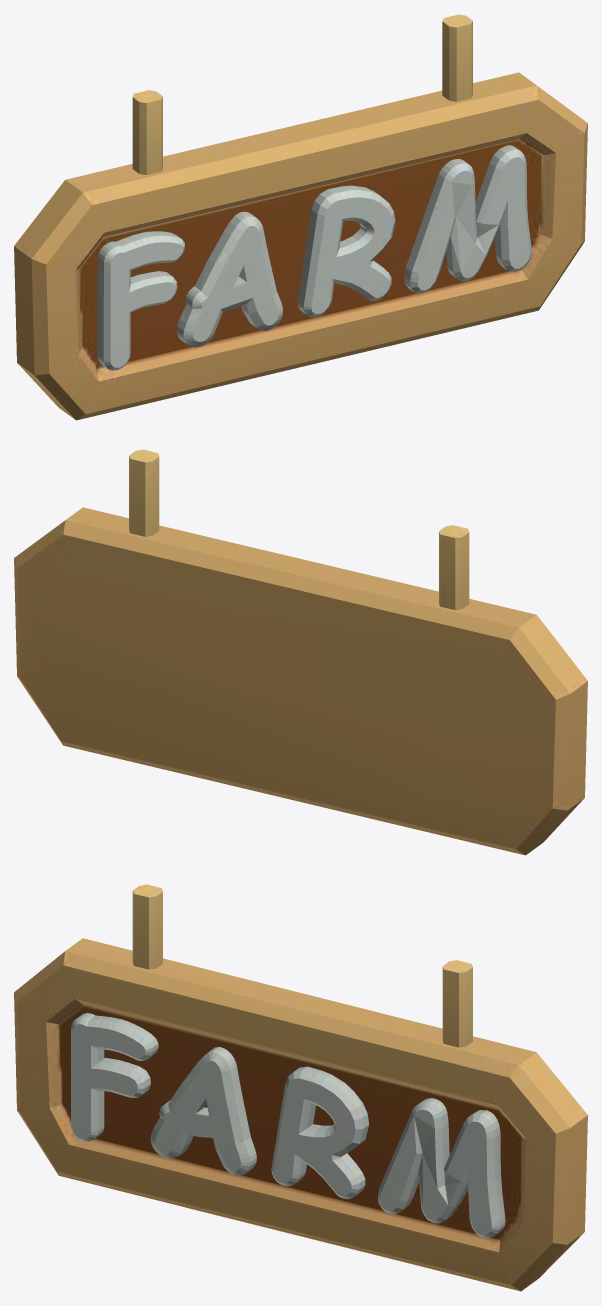
Rendered from farm_sign.glb.
3 views of the same model, one above another, from view 1: azimuth 30°, elevation 25°; view 2: azimuth 150°, elevation 25°; view 3: azimuth 330°, elevation 25° (orthographic).
Visible parts, largest first — view 1: farm_sign; view 2: farm_sign; view 3: farm_sign.
Part boxes in pixels (x1,y1,x2,y2): farm_sign: (14, 14, 587, 420); farm_sign: (14, 449, 587, 855); farm_sign: (14, 884, 587, 1291).
Bounding box in the file's own units: 1.94 × 1 × 0.2011.
Materials: 1 (1 with a texture image).
